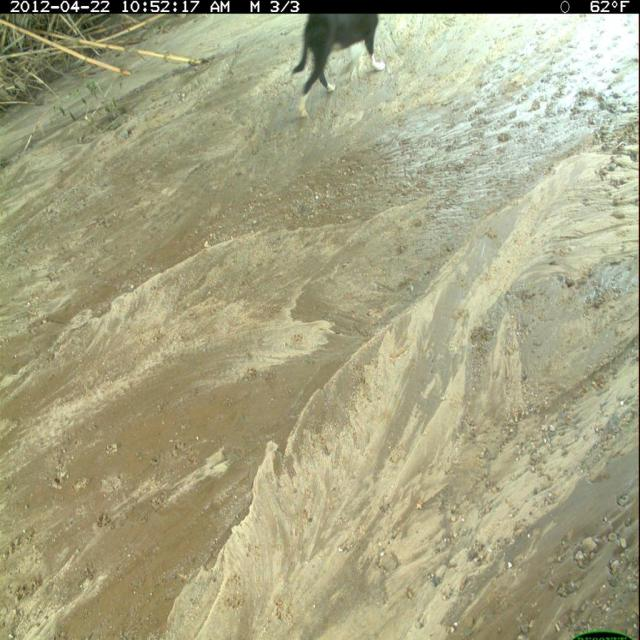dog: (290, 15, 390, 119)
